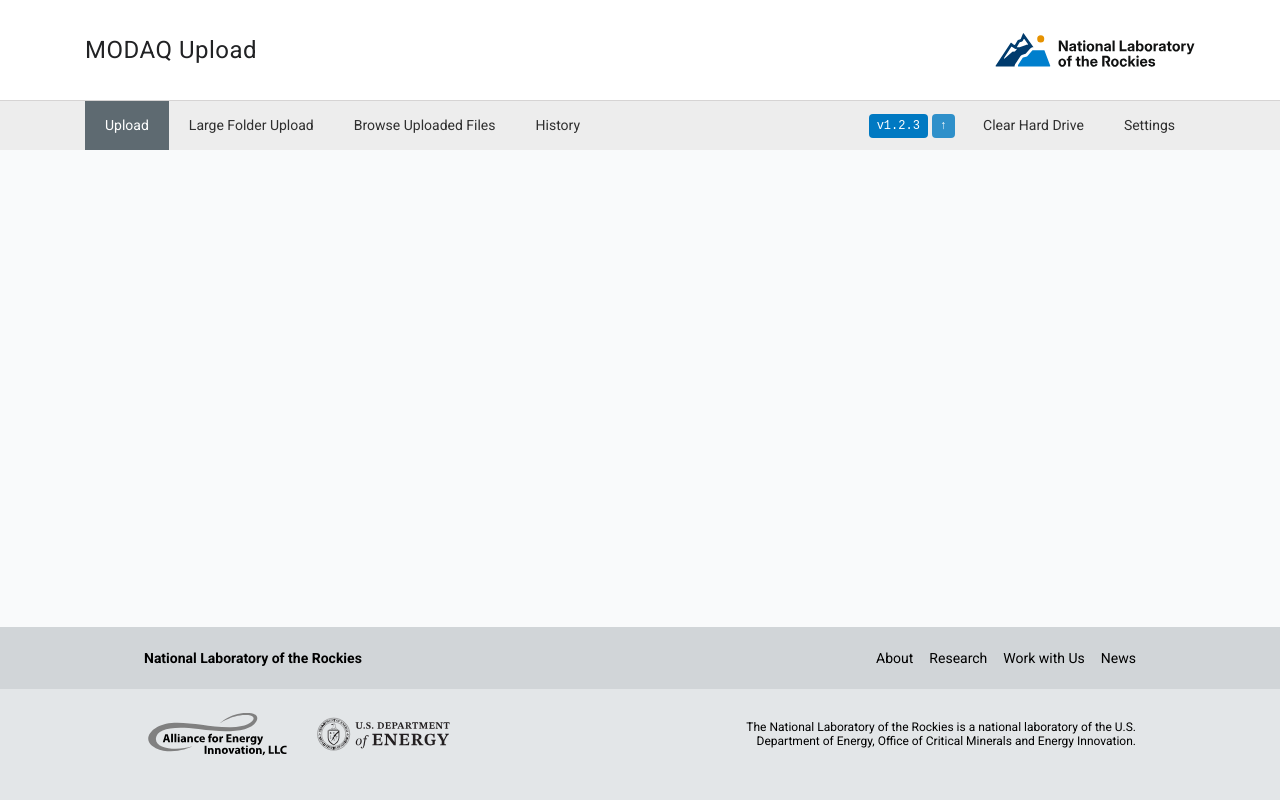
Layout › closes AboutModal when close button is clicked
The width and height of the screenshot is (1280, 800).
Click the button "v1.2.3" at [898, 126], box [869,114,928,138]
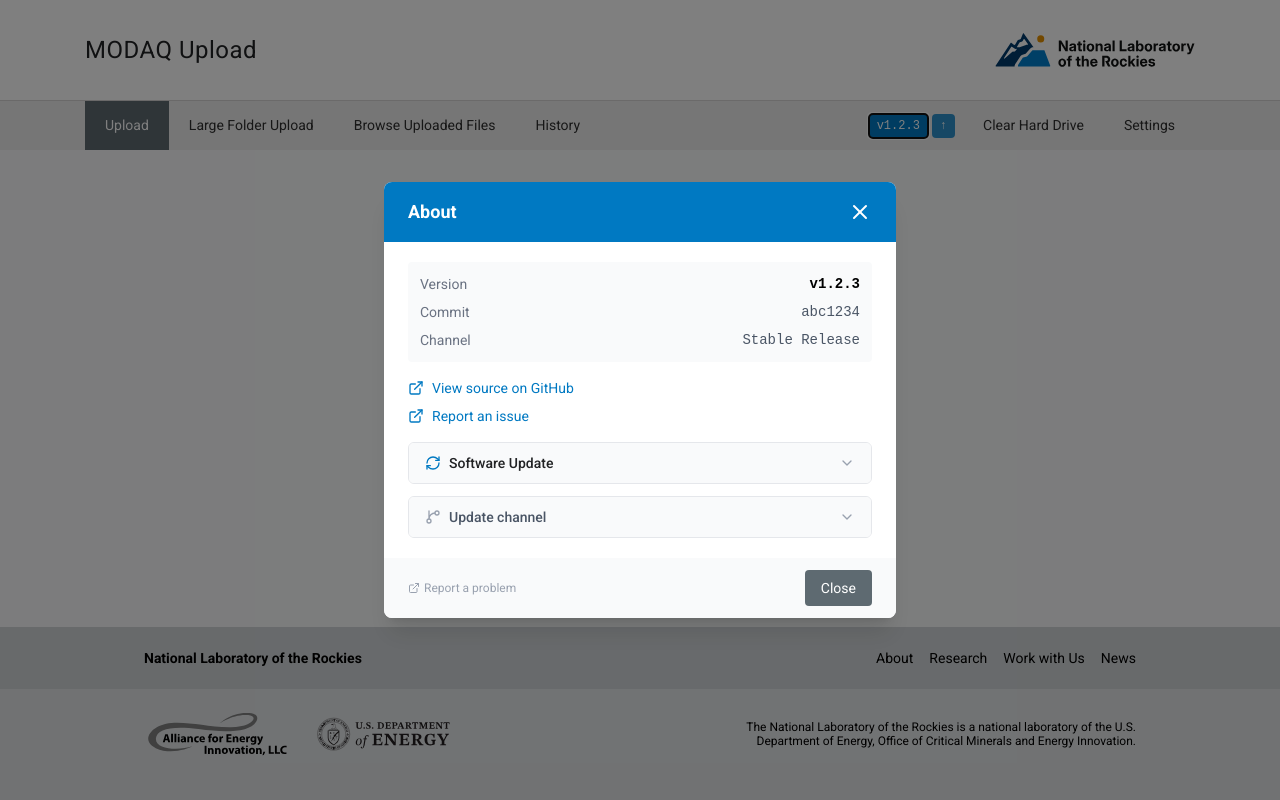
Check: the element with test id "modal-backdrop" is shown
// Click the footer Close button
Click the button "Close" at [838, 588], box [805,570,872,606]
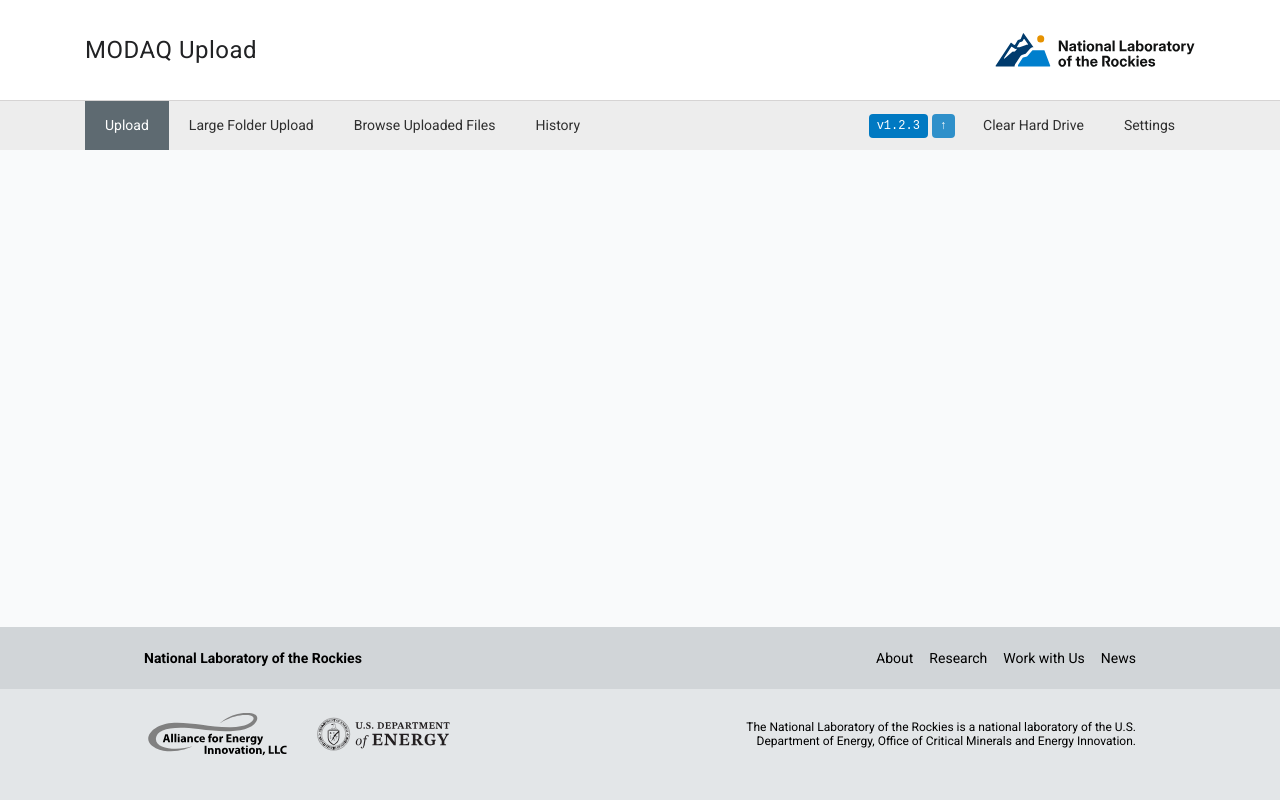
Check: the element with test id "modal-backdrop" is gone
